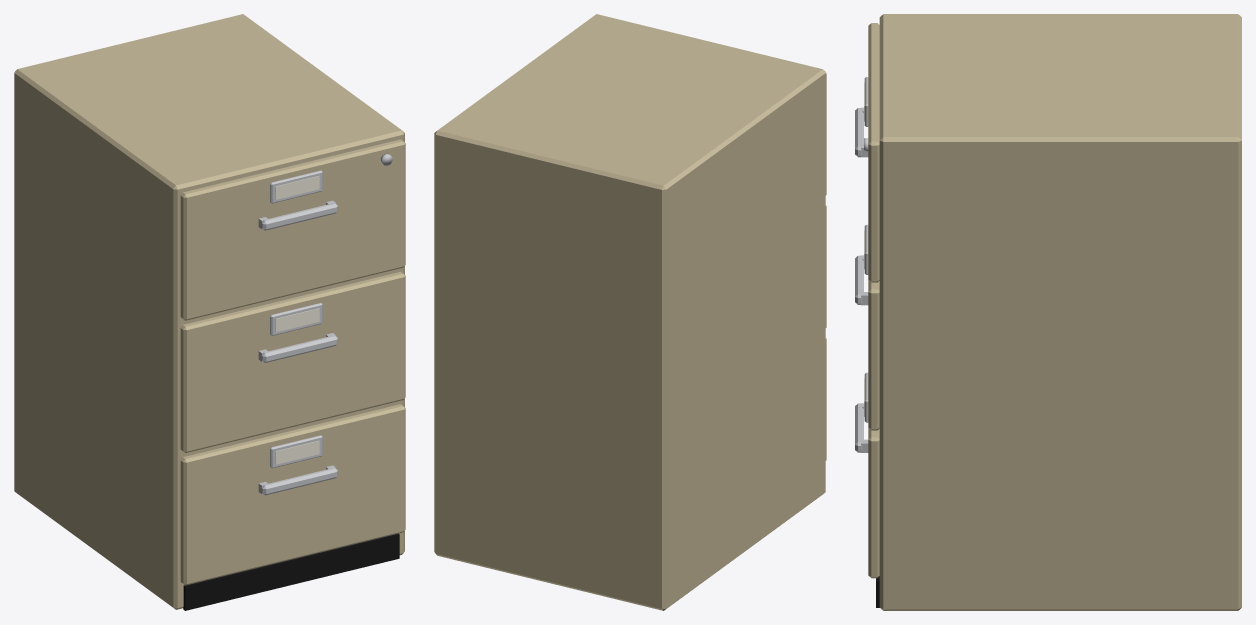
File: Gaveteiro.fbx
3 renders of one model, left to right at view 1: azimuth 30°, elevation 25°; view 2: azimuth 150°, elevation 25°; view 3: azimuth 270°, elevation 25°, orthographic. The views are drawn at different scales.
Parts seen in each view (by area): view 1: Gaveteiro; view 2: Gaveteiro; view 3: Gaveteiro.
Part boxes in pixels (x1=…): Gaveteiro: x1=14, y1=14, x2=405, y2=610; Gaveteiro: x1=434, y1=14, x2=826, y2=610; Gaveteiro: x1=855, y1=14, x2=1241, y2=610.
Bounding box in the file's own units: 0.4 × 0.7 × 0.518.
